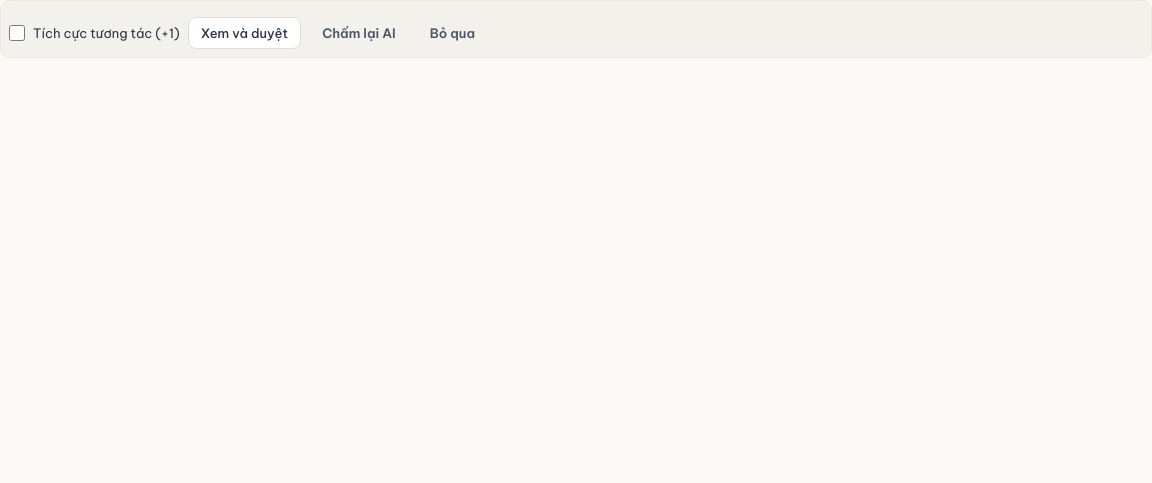
SubmissionReviewPanel › blocks approval for a student not marked present
The width and height of the screenshot is (1152, 483).
Click the button "Xem và duyệt".
click(244, 33)  # box [188,17,301,49]
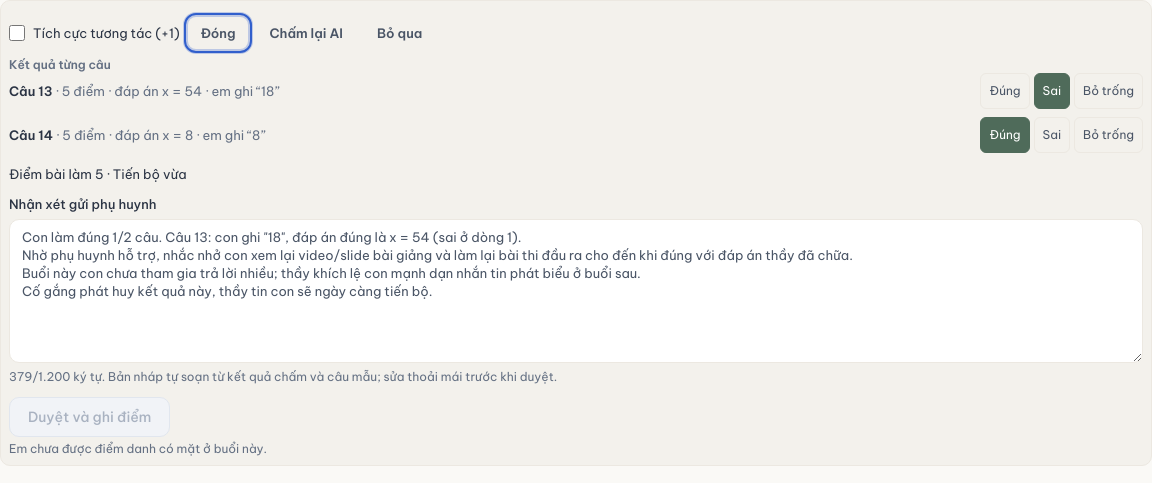
Expected: the button "Duyệt và ghi điểm" is disabled, [9,397,170,437]
